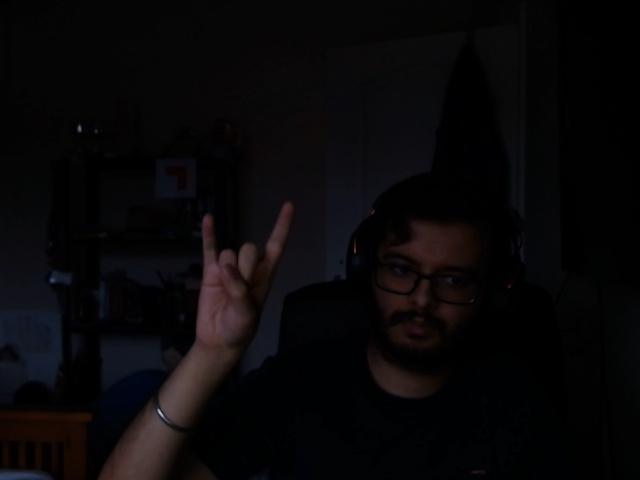Rock on: (165, 194, 312, 382)
